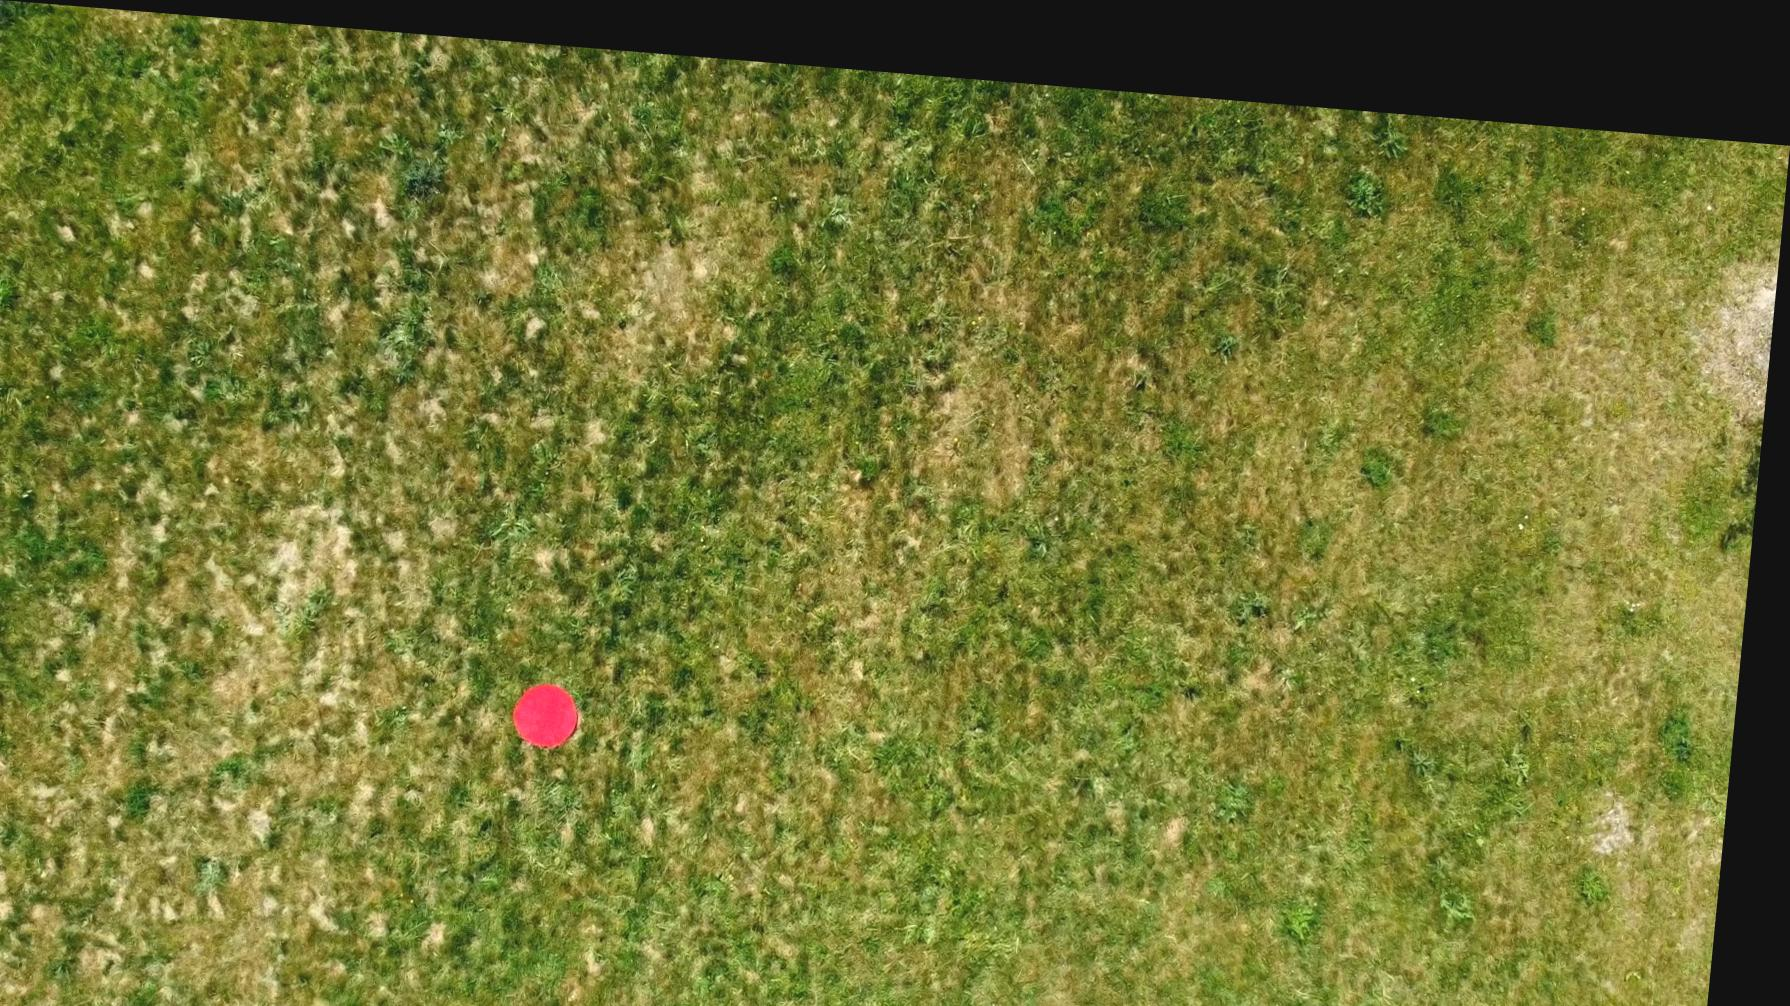Red: (522, 670, 597, 743)
